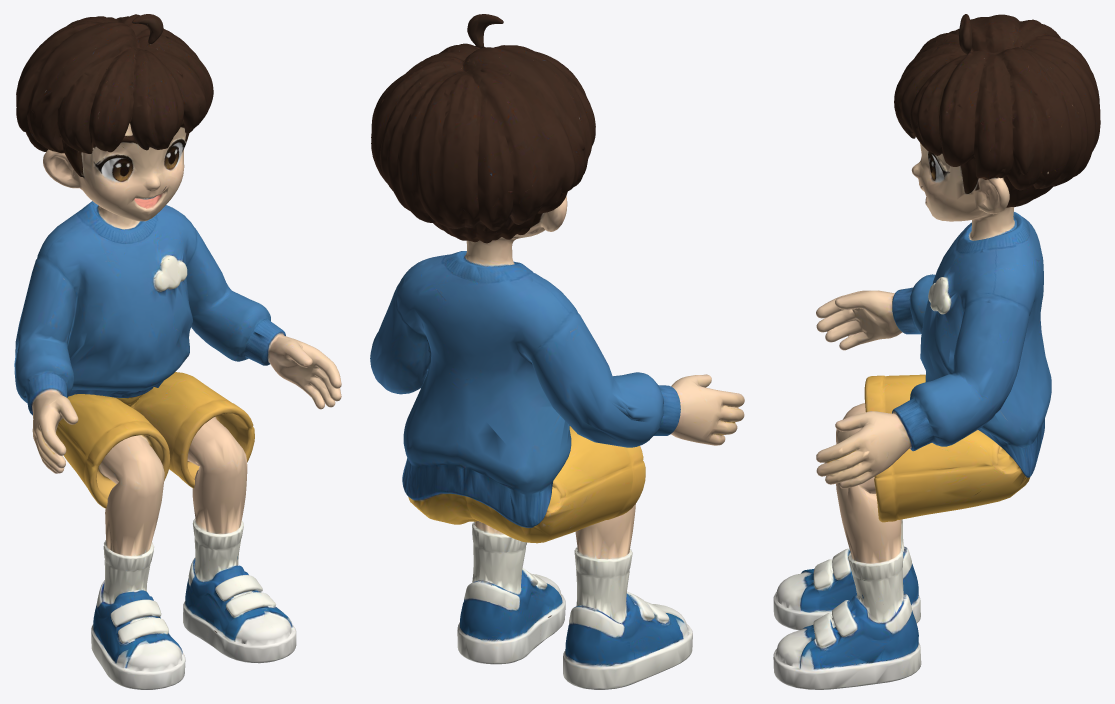
The model's file is choreographer.glb.
The picture shows the model from 3 angles, left to right: view 1: azimuth 30°, elevation 25°; view 2: azimuth 150°, elevation 25°; view 3: azimuth 270°, elevation 25°; orthographic projection. The views are drawn at different scales.
Visible parts, largest first — view 1: choreographer-body; view 2: choreographer-body; view 3: choreographer-body.
Boxes of the visible parts, x1,y1,x2,y2 form: choreographer-body: [14, 14, 341, 689]; choreographer-body: [370, 14, 744, 689]; choreographer-body: [773, 14, 1100, 689].
Bounding box in the file's own units: 0.5476 × 1.05 × 0.4919.
Materials: 1 (1 with a texture image).
